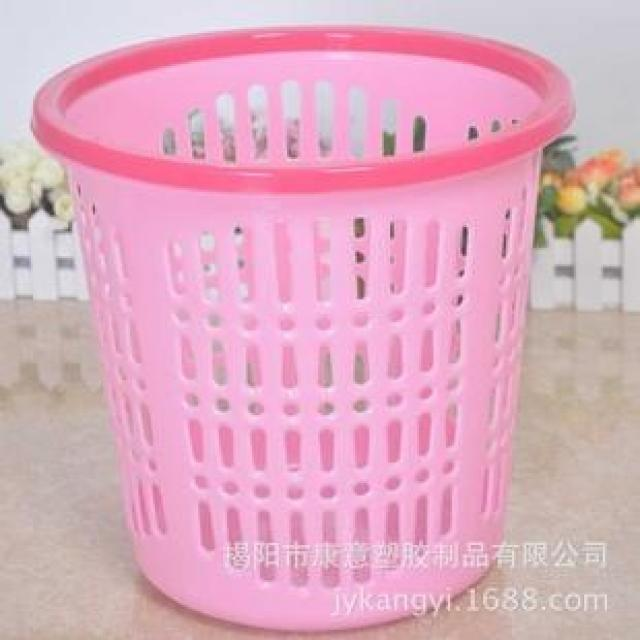Dustbin: (22, 16, 582, 640)
